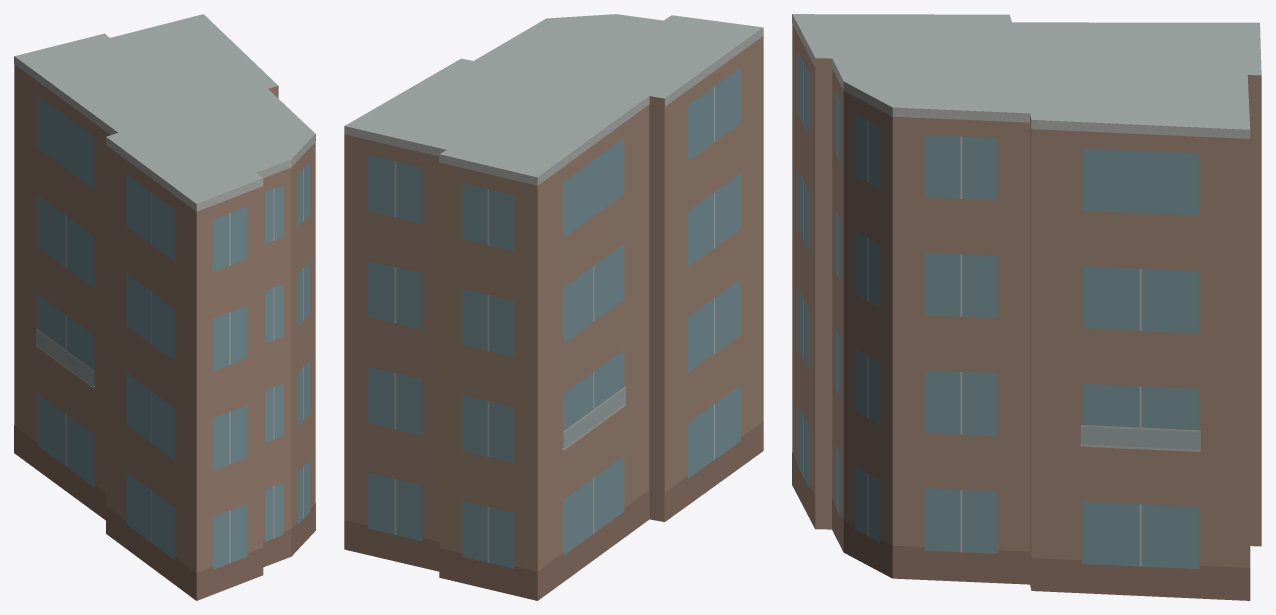
Rendered from survey-upis-32476956.glb.
3 renders of one model, left to right at view 1: azimuth 30°, elevation 25°; view 2: azimuth 150°, elevation 25°; view 3: azimuth 270°, elevation 25°, orthographic. The views are drawn at different scales.
Visible parts, largest first — view 1: survey-upis-32476956.tmp; view 2: survey-upis-32476956.tmp; view 3: survey-upis-32476956.tmp.
Boxes of the visible parts, box(x1,y1,x2,y2) form: survey-upis-32476956.tmp: box(14, 14, 315, 600); survey-upis-32476956.tmp: box(344, 14, 763, 600); survey-upis-32476956.tmp: box(792, 14, 1261, 600).
Bounding box in the file's own units: 6.58 × 12.45 × 11.26.
